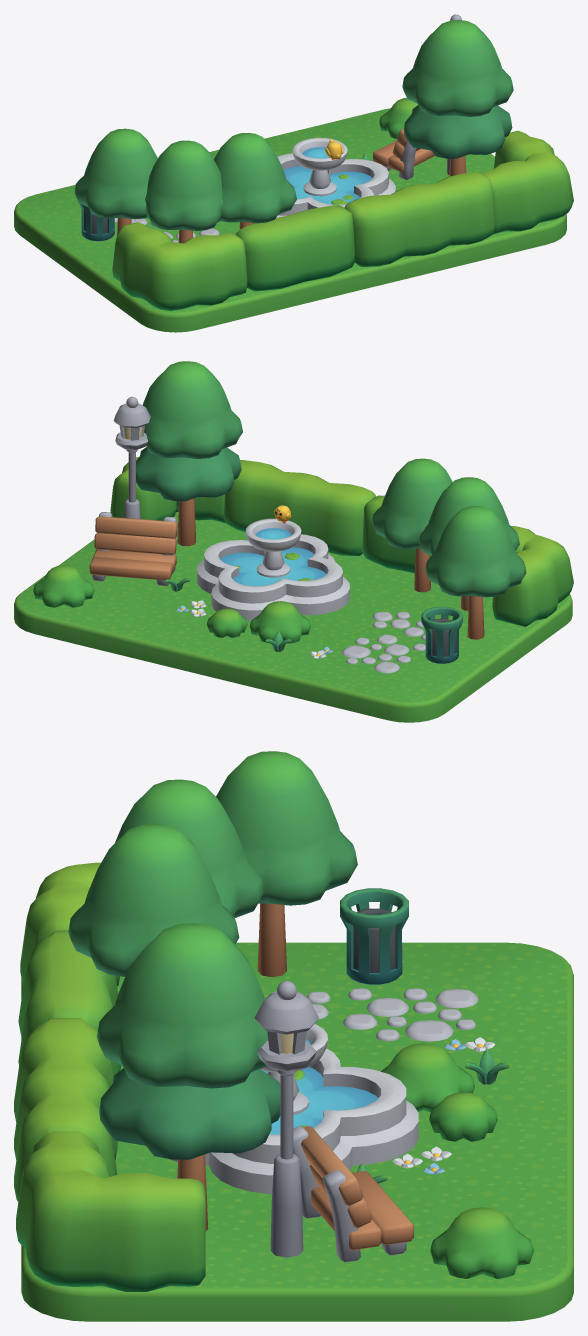
Rendered from pretty-park.glb.
The picture shows the model from 3 angles, top to bottom: view 1: azimuth 30°, elevation 25°; view 2: azimuth 150°, elevation 25°; view 3: azimuth 270°, elevation 25°; orthographic projection. The views are drawn at different scales.
Parts seen in each view (by area): view 1: tree_large, hedge_straight_long.001, hedge_corner.001, hedge_straight.001, hedge_corner.003, tree, tree.003, tree.005, fountain.001, floor_grass_sliced_C.001, floor_grass_sliced_A.001, floor_grass_sliced_B.001 (+15 smaller); view 2: tree_large, fountain.001, hedge_straight_long.001, tree.003, bench, tree.005, hedge_corner.001, floor_grass_sliced_C.001, floor_grass_sliced_D.001, floor_grass_sliced_D.005, floor_grass_sliced_D.007, floor_grass_sliced_D.003 (+24 smaller); view 3: tree_large, hedge_corner.003, tree.003, tree.005, fountain.001, hedge_straight_long.001, floor_grass_sliced_H.001, floor_grass_sliced_H.003, bench, street_lantern, floor_grass_sliced_I.001, tree (+22 smaller).
Boxes of the visible parts, x1,y1,x2,y2 form: tree_large: [402, 20, 513, 176]; hedge_straight_long.001: [344, 172, 494, 266]; hedge_corner.001: [112, 222, 247, 310]; hedge_straight.001: [235, 205, 354, 291]; hedge_corner.003: [482, 130, 573, 233]; tree: [145, 140, 223, 243]; tree.003: [74, 128, 157, 235]; tree.005: [214, 133, 296, 229]; fountain.001: [253, 137, 395, 223]; floor_grass_sliced_C.001: [14, 186, 81, 249]; floor_grass_sliced_A.001: [120, 290, 231, 332]; floor_grass_sliced_B.001: [39, 221, 117, 278]; tree_large: [136, 361, 242, 546]; fountain.001: [197, 518, 349, 621]; hedge_straight_long.001: [224, 460, 375, 555]; tree.003: [425, 506, 526, 639]; bench: [89, 512, 177, 585]; tree.005: [372, 458, 452, 592]; hedge_corner.001: [492, 526, 573, 626]; floor_grass_sliced_C.001: [353, 664, 464, 722]; floor_grass_sliced_D.001: [70, 594, 180, 659]; floor_grass_sliced_D.005: [211, 630, 322, 694]; floor_grass_sliced_D.007: [282, 646, 385, 711]; floor_grass_sliced_D.003: [140, 612, 250, 677]; tree_large: [96, 923, 280, 1230]; hedge_corner.003: [16, 1131, 205, 1291]; tree.003: [216, 751, 357, 977]; tree.005: [68, 824, 239, 976]; fountain.001: [169, 1024, 418, 1194]; hedge_straight_long.001: [14, 1018, 117, 1201]; floor_grass_sliced_H.001: [297, 1232, 435, 1321]; floor_grass_sliced_H.003: [159, 1232, 297, 1321]; bench: [293, 1126, 413, 1262]; street_lantern: [254, 981, 319, 1257]; floor_grass_sliced_I.001: [436, 1232, 573, 1321]; tree: [115, 779, 263, 917].
Size of the model in its own units: 12.32 by 5.28 by 8.11.
Materials: 28 (28 with a texture image).
